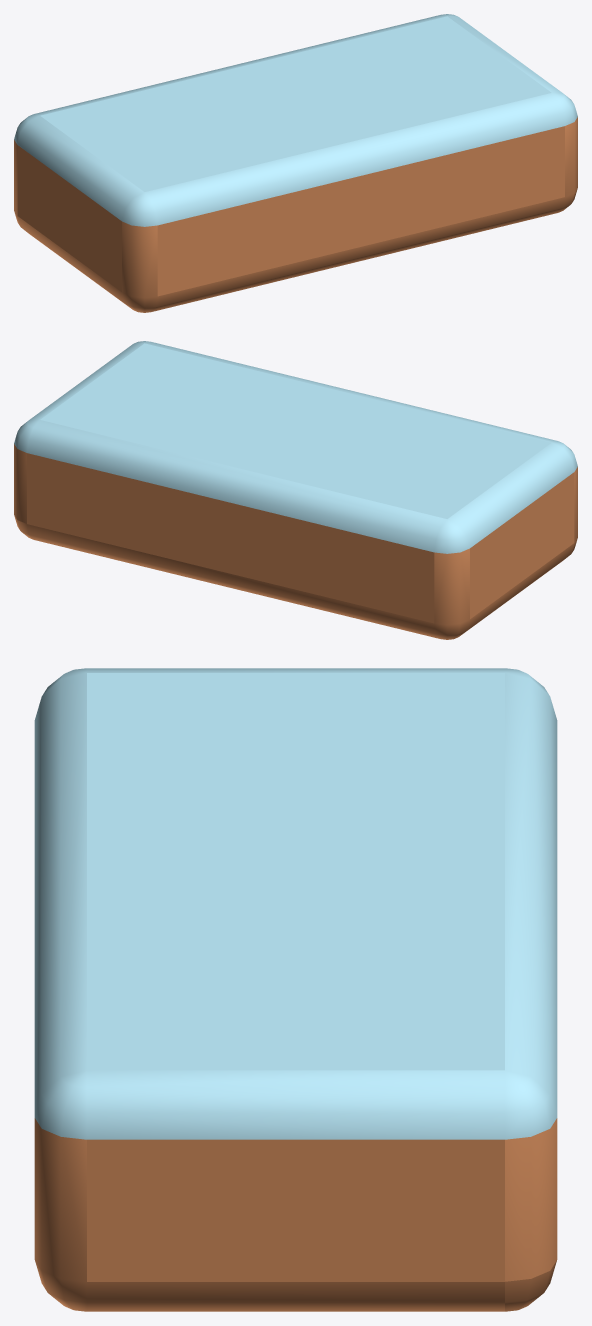
Rendered from blockSnowRoundedLowLong.obj.
3 renders of one model, top to bottom at view 1: azimuth 30°, elevation 25°; view 2: azimuth 150°, elevation 25°; view 3: azimuth 270°, elevation 25°, orthographic. The views are drawn at different scales.
Parts seen in each view (by area): view 1: blockSnowRoundedLowLong; view 2: blockSnowRoundedLowLong; view 3: blockSnowRoundedLowLong.
Boxes of the visible parts, x1=… form: blockSnowRoundedLowLong: x1=14, y1=14, x2=577, y2=312; blockSnowRoundedLowLong: x1=14, y1=341, x2=577, y2=639; blockSnowRoundedLowLong: x1=34, y1=668, x2=557, y2=1311.
Size of the model in its own units: 2 by 0.5 by 1.
